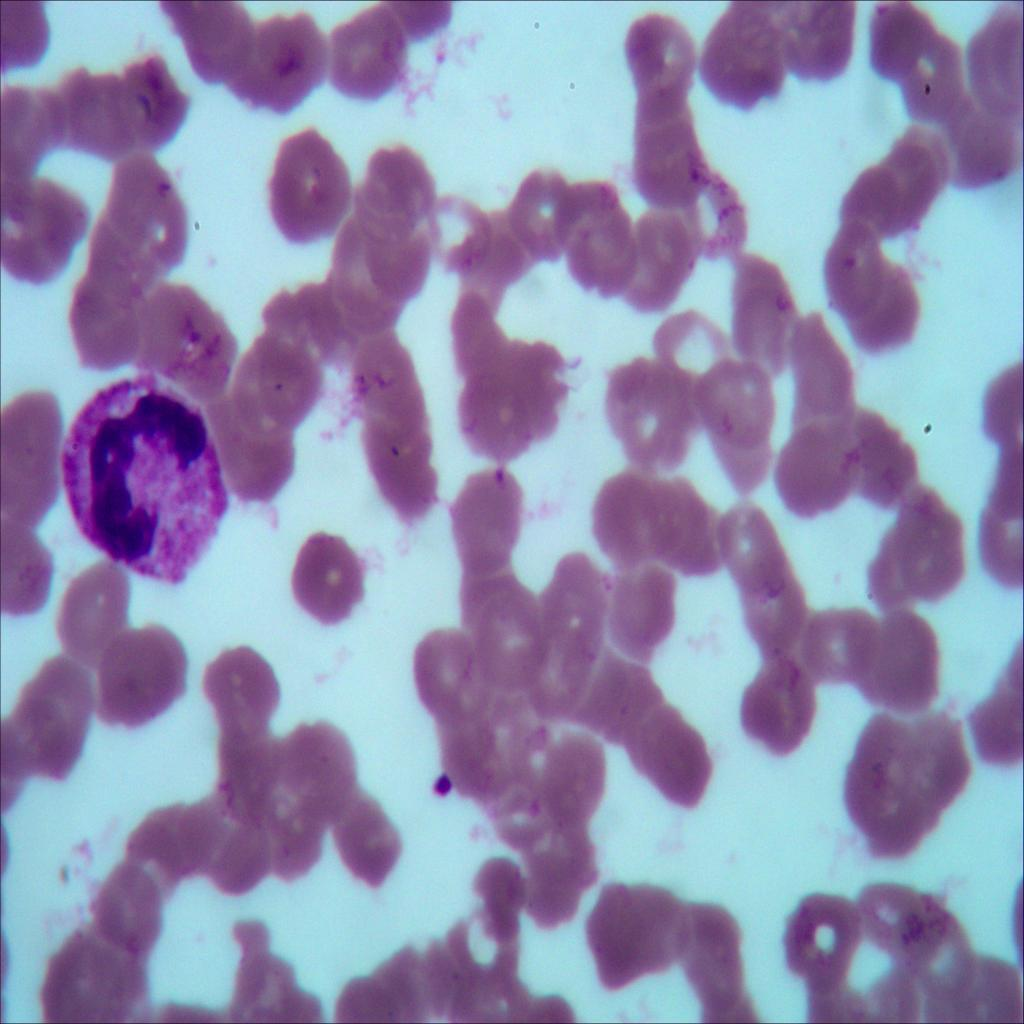Neutrofil: (50, 358, 232, 605)
Platelet: (422, 752, 450, 805)
